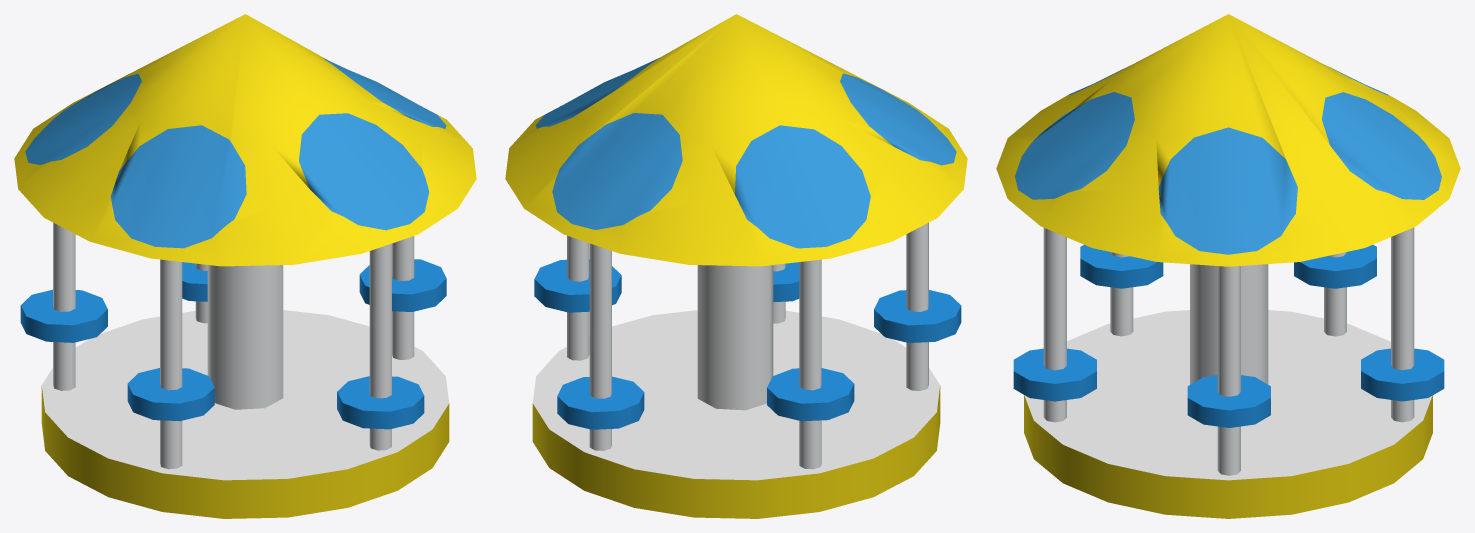
The model's file is carousel01_s03.FBX.
3 views of the same model, side by side, from view 1: azimuth 30°, elevation 25°; view 2: azimuth 150°, elevation 25°; view 3: azimuth 270°, elevation 25° (orthographic).
Visible parts, largest first — view 1: carousel01_s03; view 2: carousel01_s03; view 3: carousel01_s03.
Part boxes in pixels (x1,y1,x2,y2): carousel01_s03: [14, 14, 476, 518]; carousel01_s03: [505, 14, 967, 518]; carousel01_s03: [996, 14, 1460, 518].
Size of the model in its own units: 389 by 389 by 387.
1 material, 1 textured.
